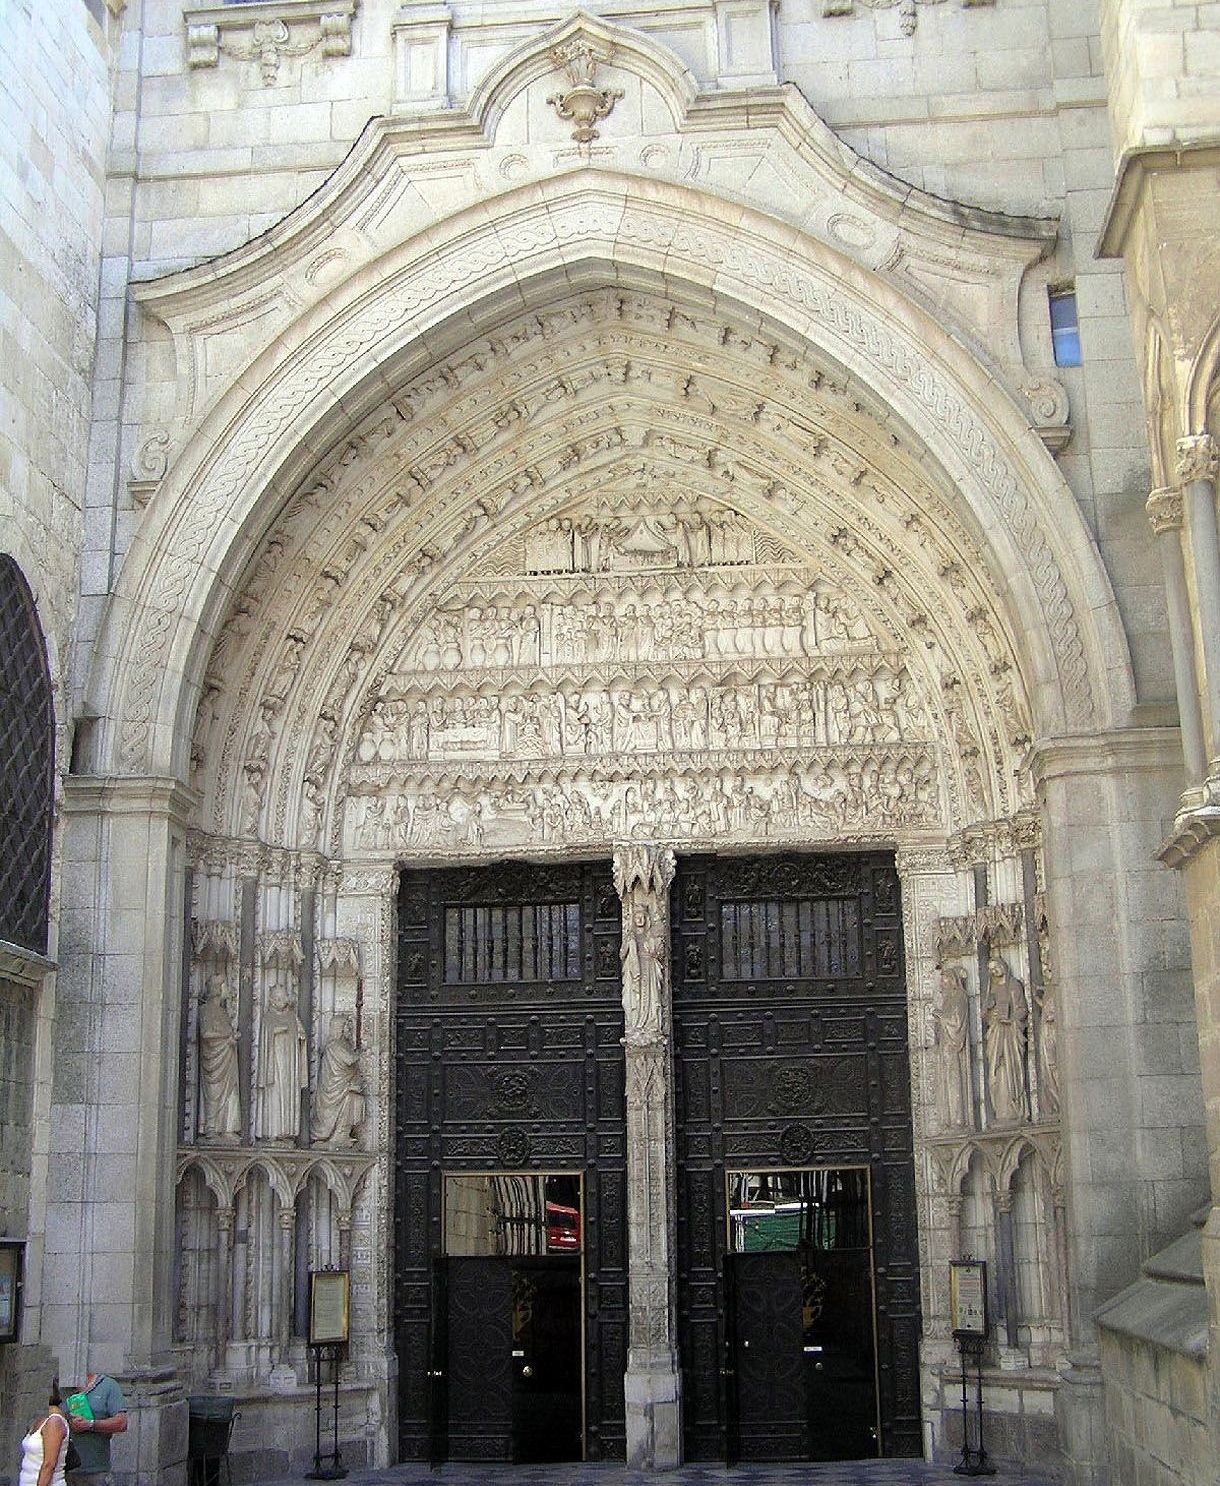arco-apuntado: (90, 158, 1141, 729)
